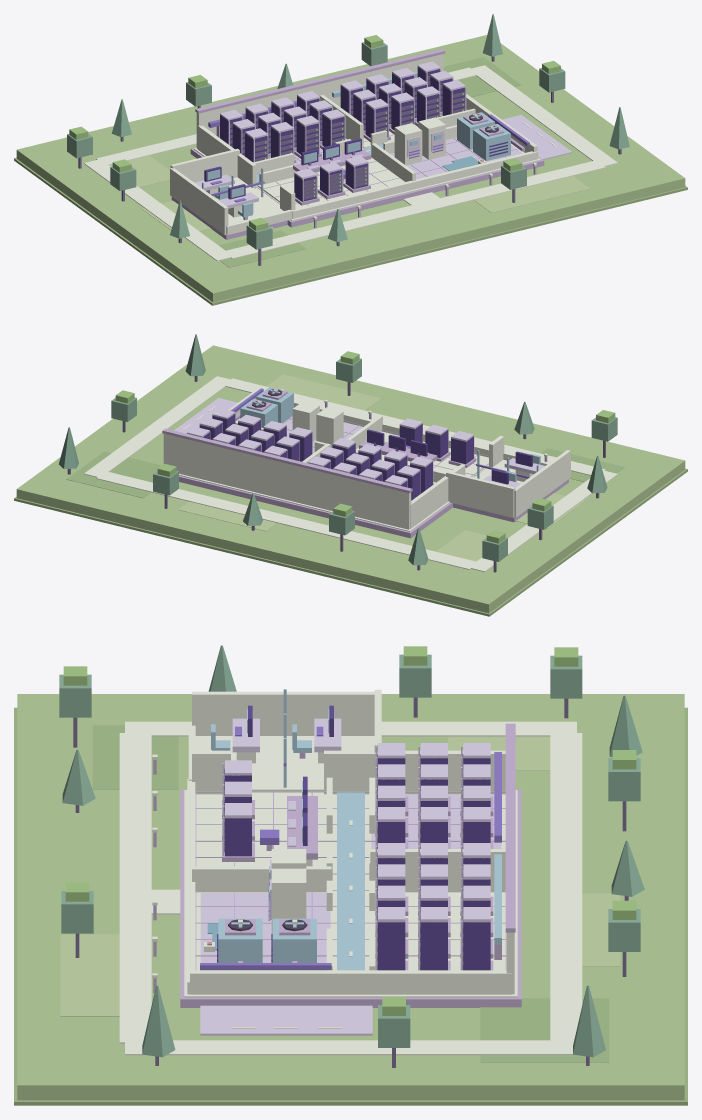
Rendered from facility-campus.glb.
3 renders of one model, top to bottom at view 1: azimuth 30°, elevation 25°; view 2: azimuth 150°, elevation 25°; view 3: azimuth 270°, elevation 25°, orthographic. The views are drawn at different scales.
Visible parts, largest first — view 1: Campus / Campus meadow green, Campus / Meadow cream, Campus / Pale lavender, Campus / Server cabinets, Campus / Trees sage foliage, Campus / Lavender trim, Campus / Campus grass shade, Campus / Campus grass light, Campus / Server drawers, Campus / Blue equipment panels, Campus / Trees light foliage, Campus / Muted purple; view 2: Campus / Campus meadow green, Campus / Meadow cream, Campus / Trees sage foliage, Campus / Pale lavender, Campus / Server cabinets, Campus / Campus grass shade, Campus / Lavender trim, Campus / Campus grass light, Campus / Trees light foliage, Campus / Blue equipment panels, Campus / Trees lavender trunks; view 3: Campus / Campus meadow green, Campus / Meadow cream, Campus / Pale lavender, Campus / Trees sage foliage, Campus / Campus grass shade, Campus / Lavender trim, Campus / Server cabinets, Campus / Blue equipment panels, Campus / Campus grass light, Campus / Trees light foliage, Campus / Muted purple, Campus / Trees lavender trunks (+1 smaller).
Part boxes in pixels (x1=…): Campus / Campus meadow green: x1=16, y1=35, x2=685, y2=302; Campus / Meadow cream: x1=84, y1=54, x2=617, y2=261; Campus / Pale lavender: x1=194, y1=61, x2=572, y2=208; Campus / Server cabinets: x1=204, y1=67, x2=507, y2=201; Campus / Trees sage foliage: x1=67, y1=14, x2=629, y2=249; Campus / Lavender trim: x1=171, y1=49, x2=544, y2=239; Campus / Campus grass shade: x1=14, y1=57, x2=687, y2=305; Campus / Campus grass light: x1=109, y1=155, x2=589, y2=231; Campus / Server drawers: x1=230, y1=76, x2=464, y2=199; Campus / Blue equipment panels: x1=202, y1=71, x2=510, y2=217; Campus / Trees light foliage: x1=69, y1=35, x2=560, y2=231; Campus / Muted purple: x1=208, y1=100, x2=529, y2=202; Campus / Campus meadow green: x1=16, y1=345, x2=685, y2=613; Campus / Meadow cream: x1=84, y1=376, x2=617, y2=571; Campus / Trees sage foliage: x1=59, y1=334, x2=617, y2=565; Campus / Pale lavender: x1=174, y1=398, x2=544, y2=493; Campus / Server cabinets: x1=199, y1=414, x2=532, y2=500; Campus / Campus grass shade: x1=14, y1=448, x2=687, y2=616; Campus / Lavender trim: x1=162, y1=388, x2=568, y2=538; Campus / Campus grass light: x1=178, y1=374, x2=585, y2=561; Campus / Trees light foliage: x1=115, y1=351, x2=615, y2=543; Campus / Blue equipment panels: x1=240, y1=387, x2=540, y2=482; Campus / Trees lavender trunks: x1=67, y1=376, x2=605, y2=572; Campus / Campus meadow green: x1=17, y1=694, x2=684, y2=1100; Campus / Meadow cream: x1=119, y1=689, x2=582, y2=1055; Campus / Pale lavender: x1=200, y1=718, x2=501, y2=1035; Campus / Trees sage foliage: x1=59, y1=645, x2=644, y2=1057; Campus / Campus grass shade: x1=14, y1=707, x2=687, y2=1105; Campus / Lavender trim: x1=153, y1=723, x2=521, y2=1007; Campus / Server cabinets: x1=217, y1=705, x2=490, y2=970; Campus / Blue equipment panels: x1=211, y1=689, x2=501, y2=970; Campus / Campus grass light: x1=60, y1=736, x2=620, y2=1016; Campus / Trees light foliage: x1=63, y1=646, x2=636, y2=1015; Campus / Muted purple: x1=200, y1=713, x2=501, y2=969; Campus / Trees lavender trunks: x1=73, y1=697, x2=628, y2=1067.
Bounding box in the file's own units: 43.3 × 5.06 × 31.3.
